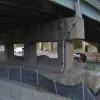Bridge: (7, 2, 98, 52)
